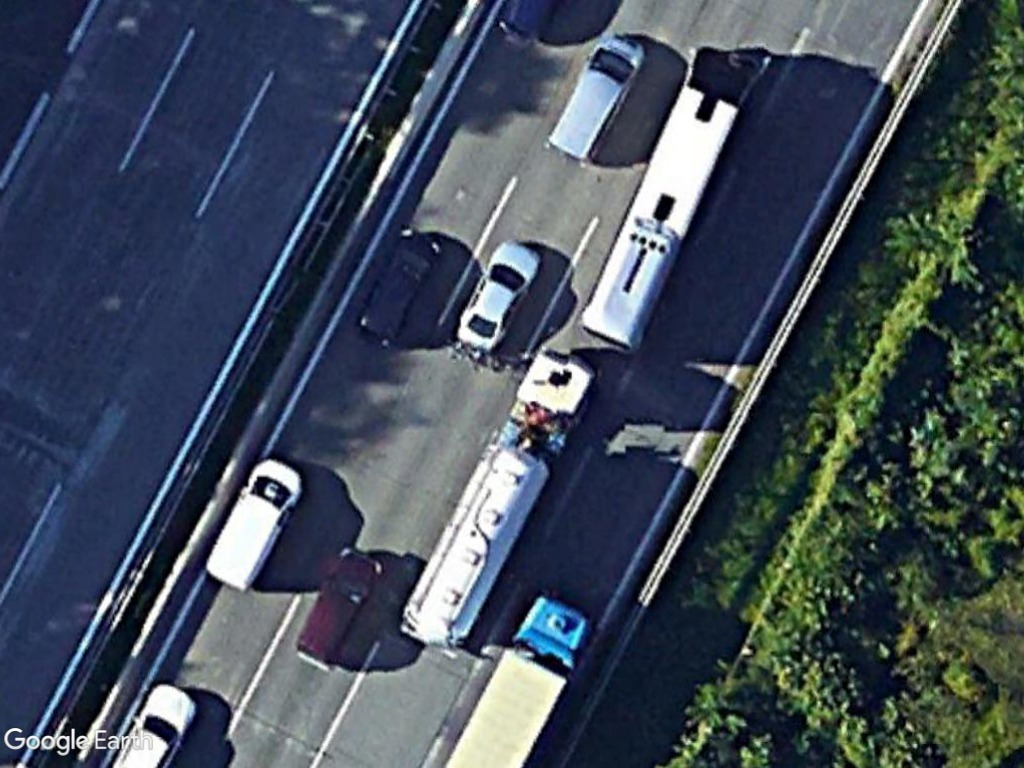bus: (577, 45, 763, 353)
car: (347, 219, 448, 354), (289, 546, 385, 674), (452, 235, 550, 354)
van: (201, 451, 312, 595), (537, 29, 652, 162)
